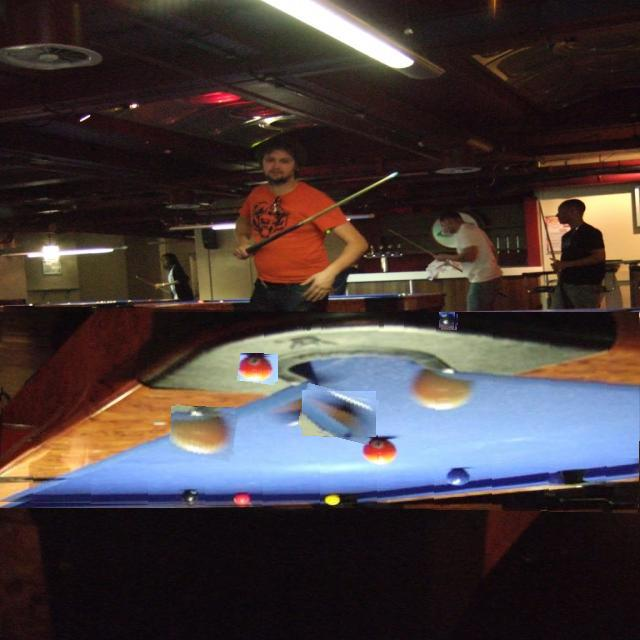Ball: (299, 387, 377, 441), (169, 406, 236, 460), (238, 354, 277, 384), (170, 338, 196, 354), (384, 311, 404, 329), (439, 312, 456, 329), (298, 315, 313, 331)
Billiard table: (0, 309, 639, 510)
